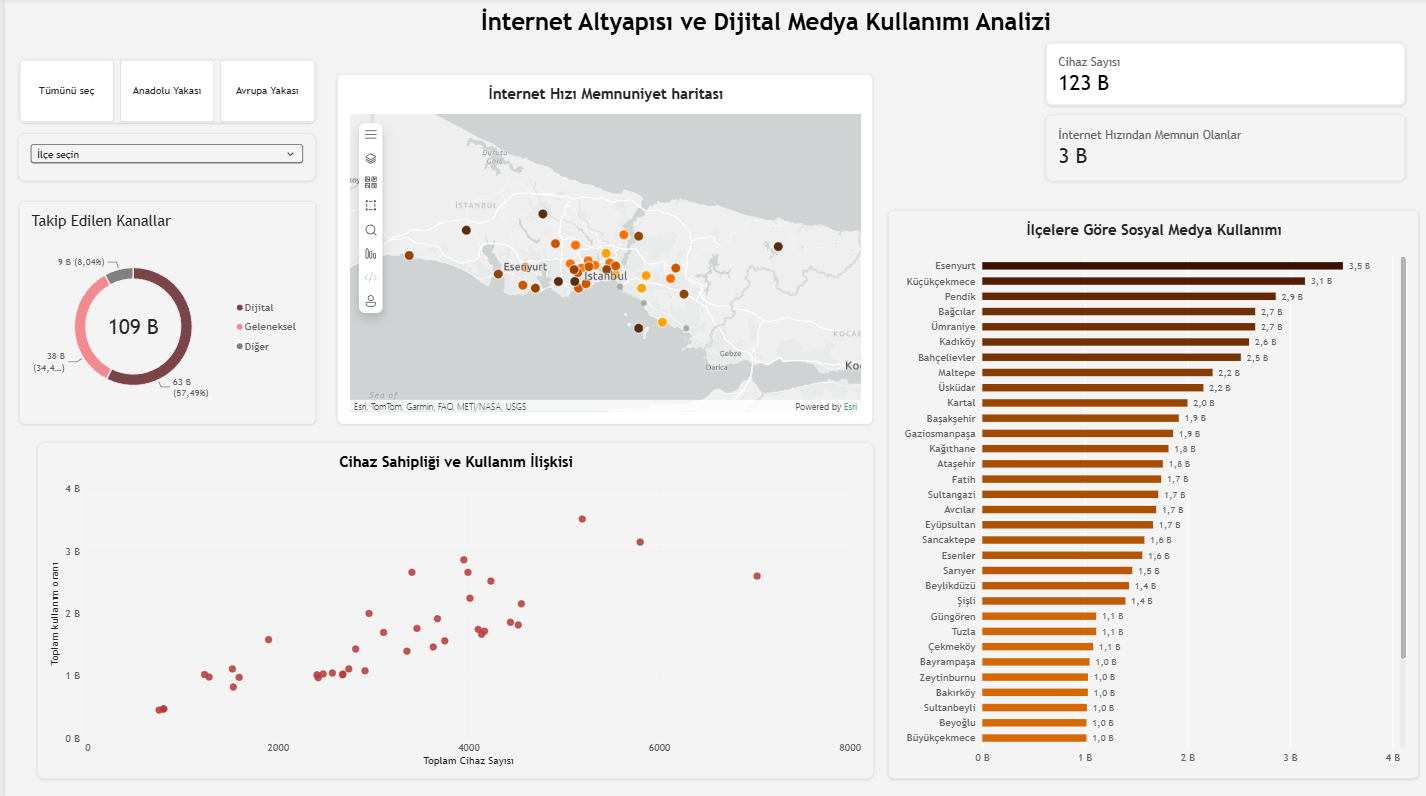

The page's visual inventory and layout, read from the dashboard file:
{"tool":"powerbi","page":{"name":"1. sayfa","canvas":[1920,1080],"ordinal":0},"visuals":[{"type":"scatterChart","title":"Cihaz Sahipliği ve Kullanım İlişkisi","fields":{"Category":["dim_ilçe.İlçe"],"X":["Sum(cihazlar.Cihaz Sayısı)"],"Y":["Sum(gündem_takibi.kullanım oranı)"]},"box":[43.2,597.3,1126.7,453.8],"z":0},{"type":"advancedSlicerVisual","fields":{"Values":["dim_ilçe.Yaka"]},"box":[18.5,81.8,399.7,86.4],"z":1000},{"type":"listSlicer","fields":{"Values":["dim_ilçe.İlçe"]},"box":[17,182.1,401.3,64.8],"z":2000},{"type":"esriVisual","title":"İnternet Hızı Memnuniyet haritası","fields":{"Color":["Sum(memnuniyet. Hız_Memnunum)"],"Location":["dim_ilçe.İlçe"]},"box":[447.6,101.9,722.3,472.3],"z":3000},{"type":"textbox","box":[635.6,13.5,778.4,56.6],"z":4000},{"type":"cardVisual","fields":{"Data":["Sum(cihazlar.Cihaz Sayısı)"]},"box":[1399.9,58.6,486.2,86.4],"z":5000},{"type":"cardVisual","title":"İnternet Hızından Memnun Olanlar","fields":{"Data":["Sum(memnuniyet. Hız_Memnunum)"]},"box":[1399.9,155.9,486.2,91.1],"z":6000},{"type":"donutChart","title":"Takip Edilen Kanallar","fields":{"Category":["dim_medya_türü.Kategori"],"Y":["Sum(gündem_takibi.kullanım oranı)"]},"box":[18.5,273.2,399.7,301],"z":7000},{"type":"clusteredBarChart","title":"İlçelere Göre Sosyal Medya Kullanımı","fields":{"Category":["dim_ilçe.İlçe"],"Y":["Sum(gündem_takibi.kullanım oranı)"]},"box":[1188.4,285.5,714.6,765.5],"z":8000}]}

Visuals, with their boxes in screenshot pixels (x1, y1, x2, y2), scaled from the page's 1920x1080 canvas onto the 1426x796 screenshot:
"Cihaz Sahipliği ve Kullanım İlişkisi" scatterChart: left=32, top=440, right=869, bottom=775
advancedSlicerVisual - dim_ilçe.Yaka: left=14, top=60, right=311, bottom=124
listSlicer - dim_ilçe.İlçe: left=13, top=134, right=311, bottom=182
"İnternet Hızı Memnuniyet haritası" esriVisual: left=332, top=75, right=869, bottom=423
textbox: left=472, top=10, right=1050, bottom=52
cardVisual - Sum(cihazlar.Cihaz Sayısı): left=1040, top=43, right=1401, bottom=107
"İnternet Hızından Memnun Olanlar" cardVisual: left=1040, top=115, right=1401, bottom=182
"Takip Edilen Kanallar" donutChart: left=14, top=201, right=311, bottom=423
"İlçelere Göre Sosyal Medya Kullanımı" clusteredBarChart: left=883, top=210, right=1413, bottom=775
